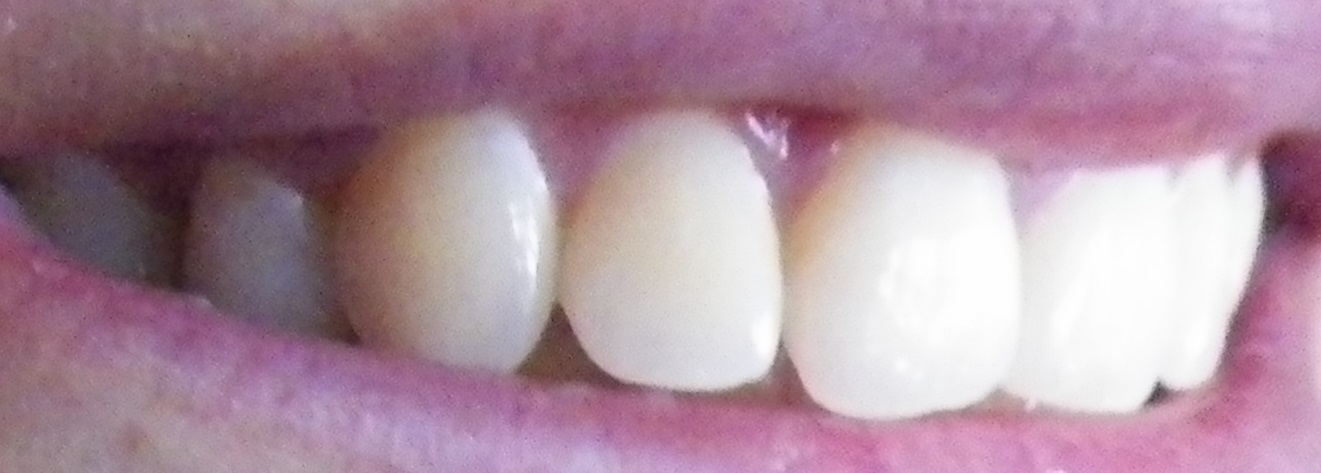boca: (87, 119, 1268, 417)
